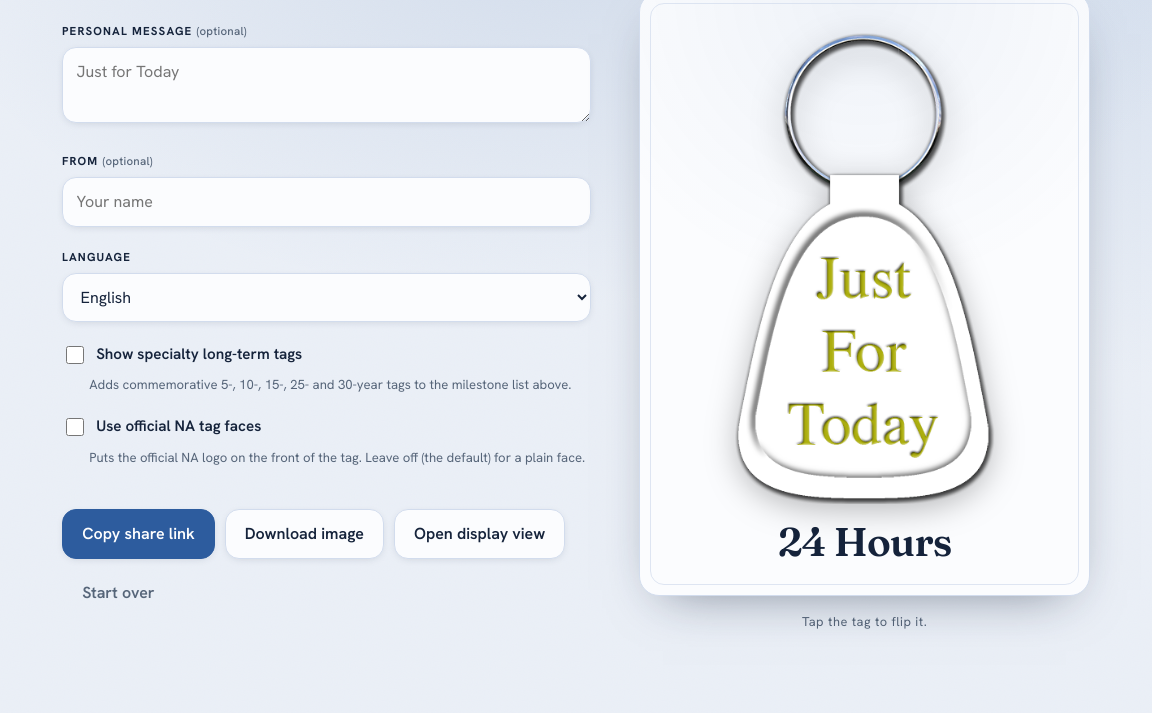
Builder › a failed export shows an error and re-enables the button (finding #10)
The image size is (1152, 713).
(page scrolled)
Click the button "Download image": (304, 534) [224, 509, 384, 559]
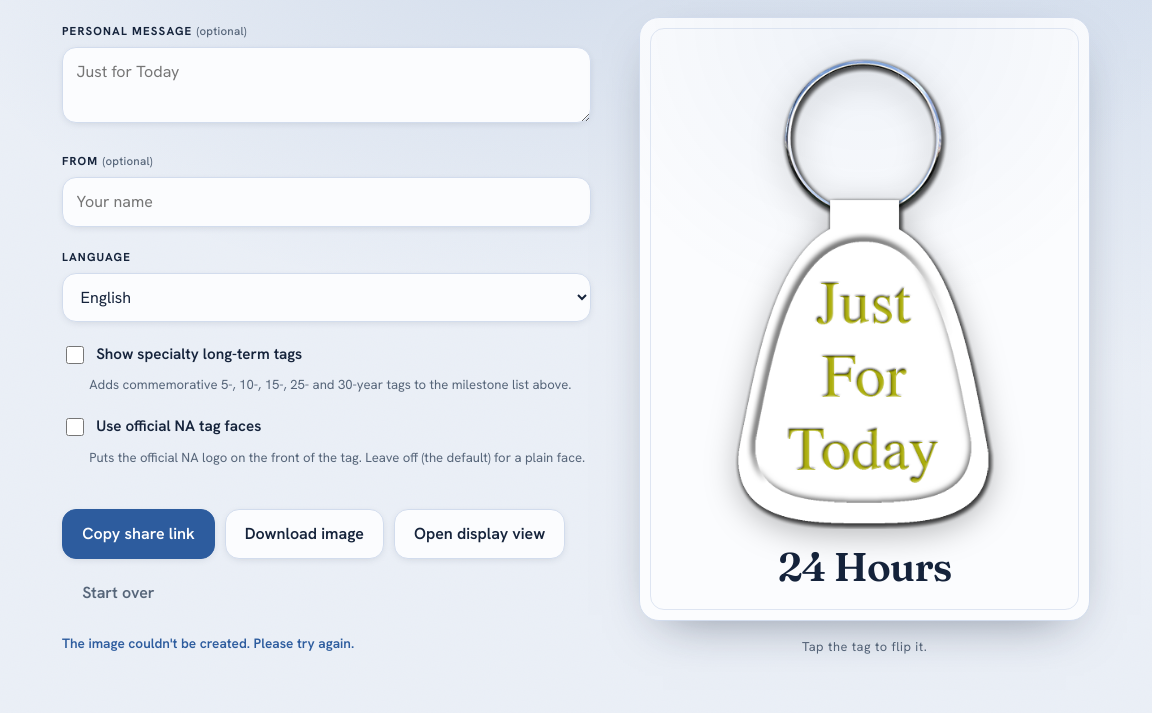
Expected: the text "The image couldn't be created. Please try again." is shown, [62, 634, 354, 652]
